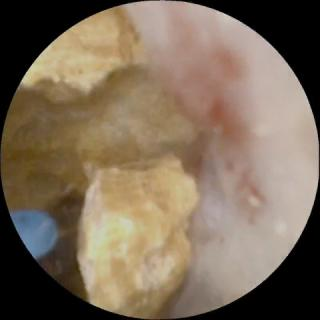fiber: (12, 213, 55, 257)
stone: (3, 8, 204, 317)
